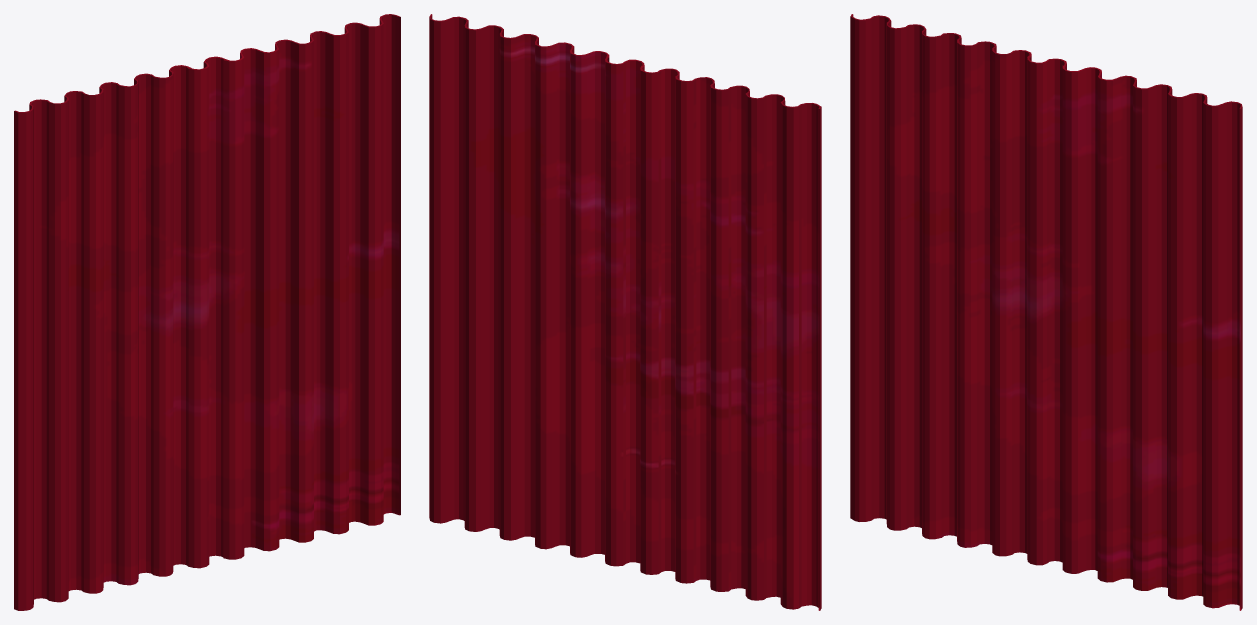
The model's file is Curtain.glb.
3 views of the same model, side by side, from view 1: azimuth 30°, elevation 25°; view 2: azimuth 150°, elevation 25°; view 3: azimuth 330°, elevation 25° (orthographic).
Visible parts, largest first — view 1: Curtain; view 2: Curtain; view 3: Curtain.
Boxes of the visible parts, box(x1,y1,x2,y2) form: Curtain: box(14, 14, 400, 610); Curtain: box(429, 14, 821, 610); Curtain: box(850, 14, 1242, 610).
Bounding box in the file's own units: 1269 × 1563 × 60.81.
1 material, 1 textured.
